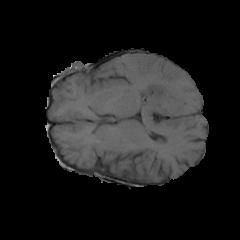glioma: (121, 73, 193, 113)
